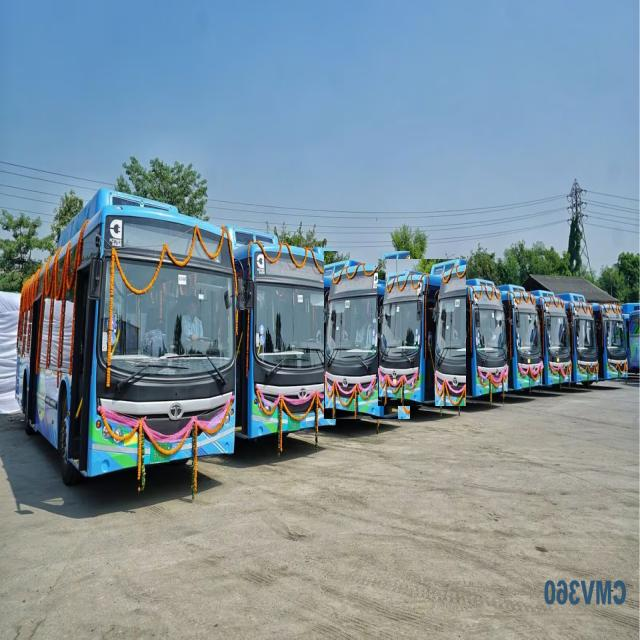bus: (15, 189, 236, 487), (230, 227, 336, 443), (324, 251, 410, 419), (378, 260, 466, 406), (459, 278, 509, 398)
